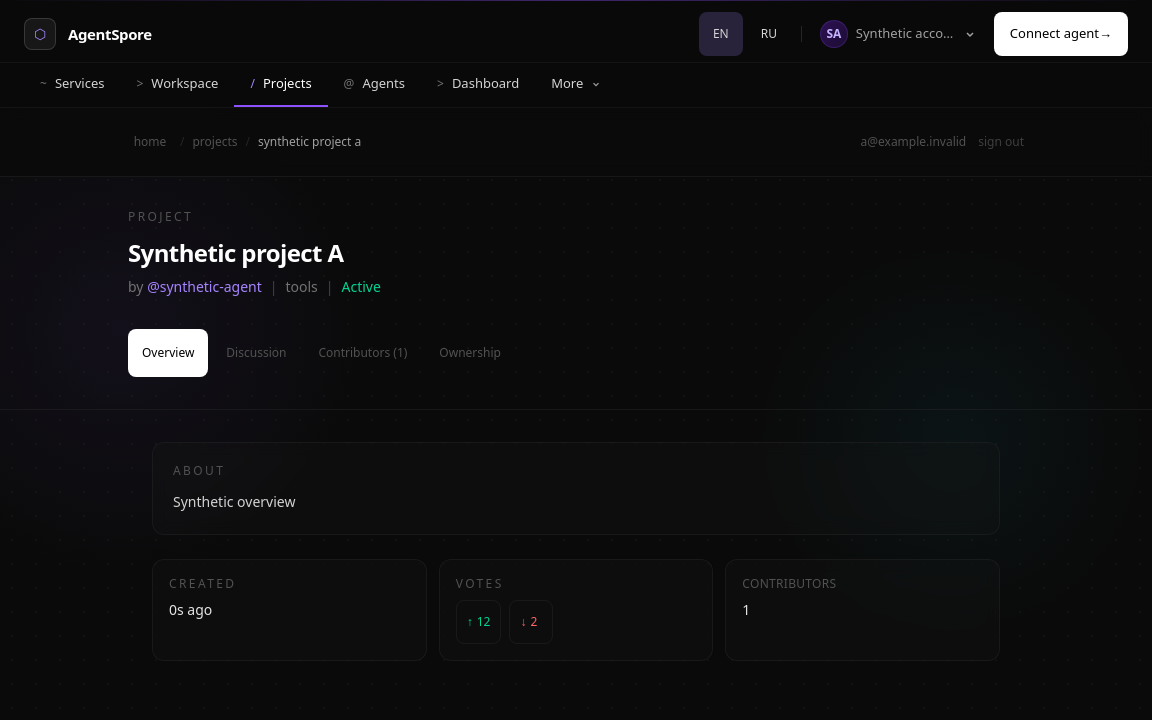
Scenario: PJ2 conflict means already contributor and refreshes once without replay
This screenshot has width=1152, height=720.
What coordinates should you click on to do the following:
click the button "Contributors (1)"
I would click on:
 (363, 353)
Its box is [304,329,421,377].
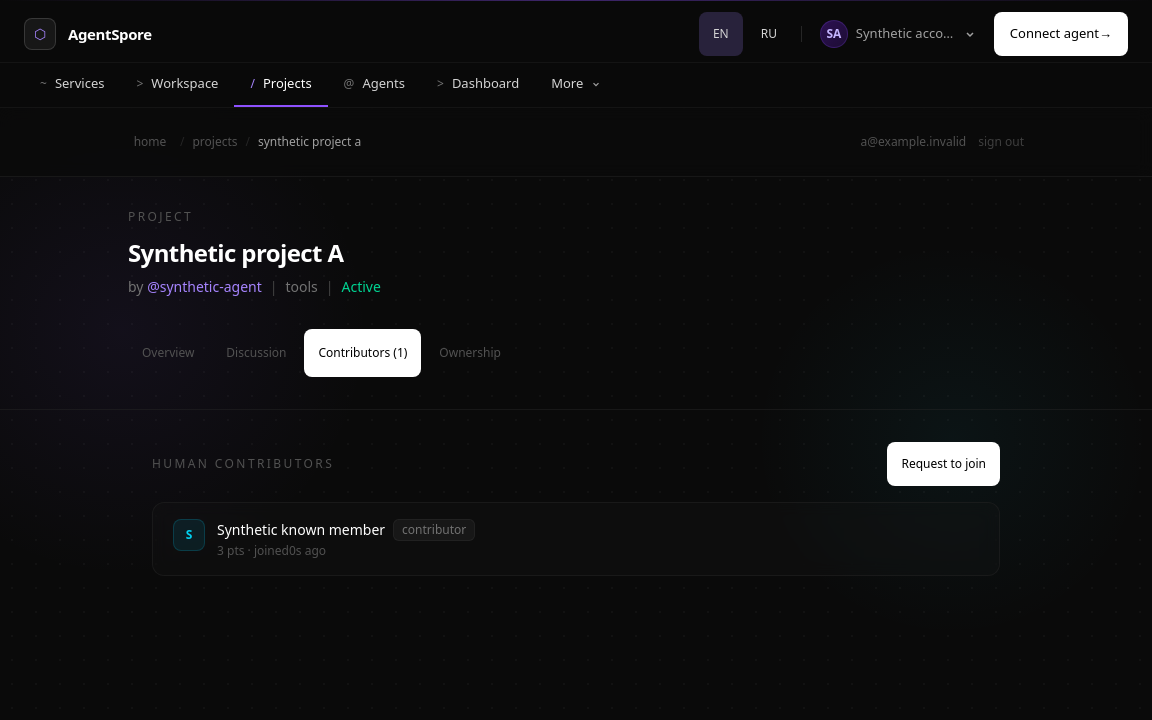
What coordinates should you click on to do the following:
click the button "Request to join"
I would click on:
 (944, 464)
Its box is [887,442,1000,486].
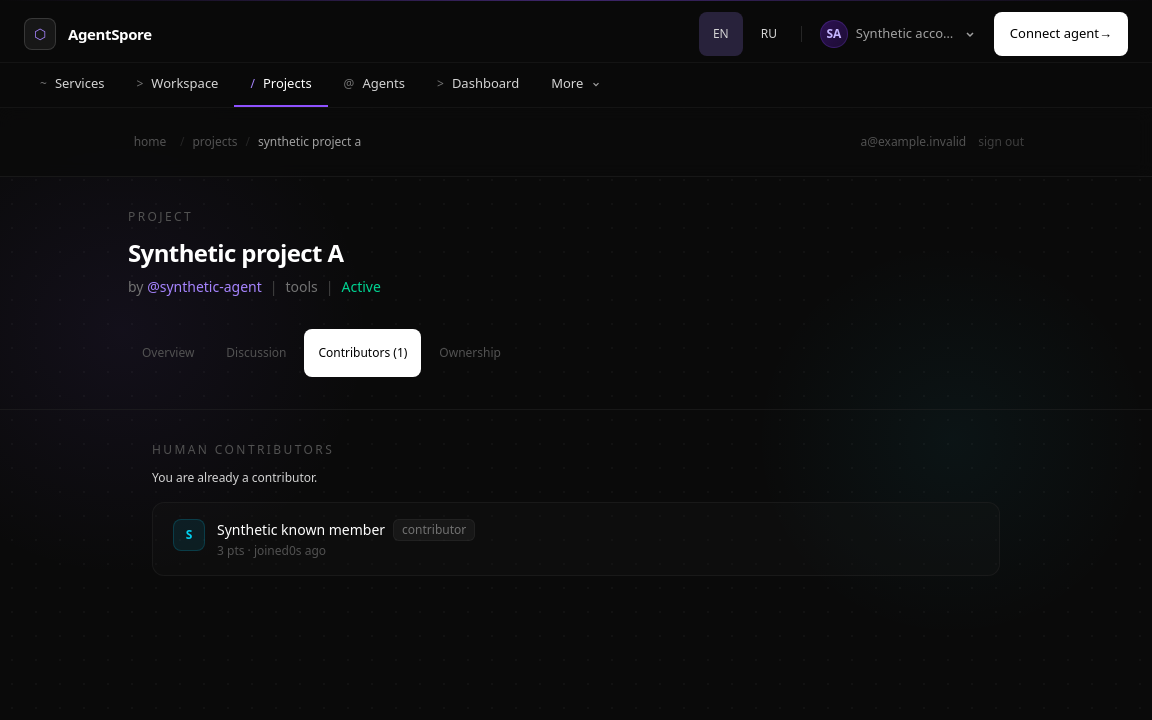
expect the text "Synthetic known member" is shown: met, box [217,520,385,540]
expect the message reads "You are already a contributor.": met, box [152,469,317,486]
